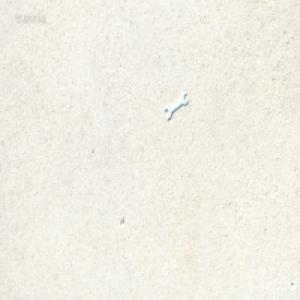Wrench: (164, 91, 187, 120)
